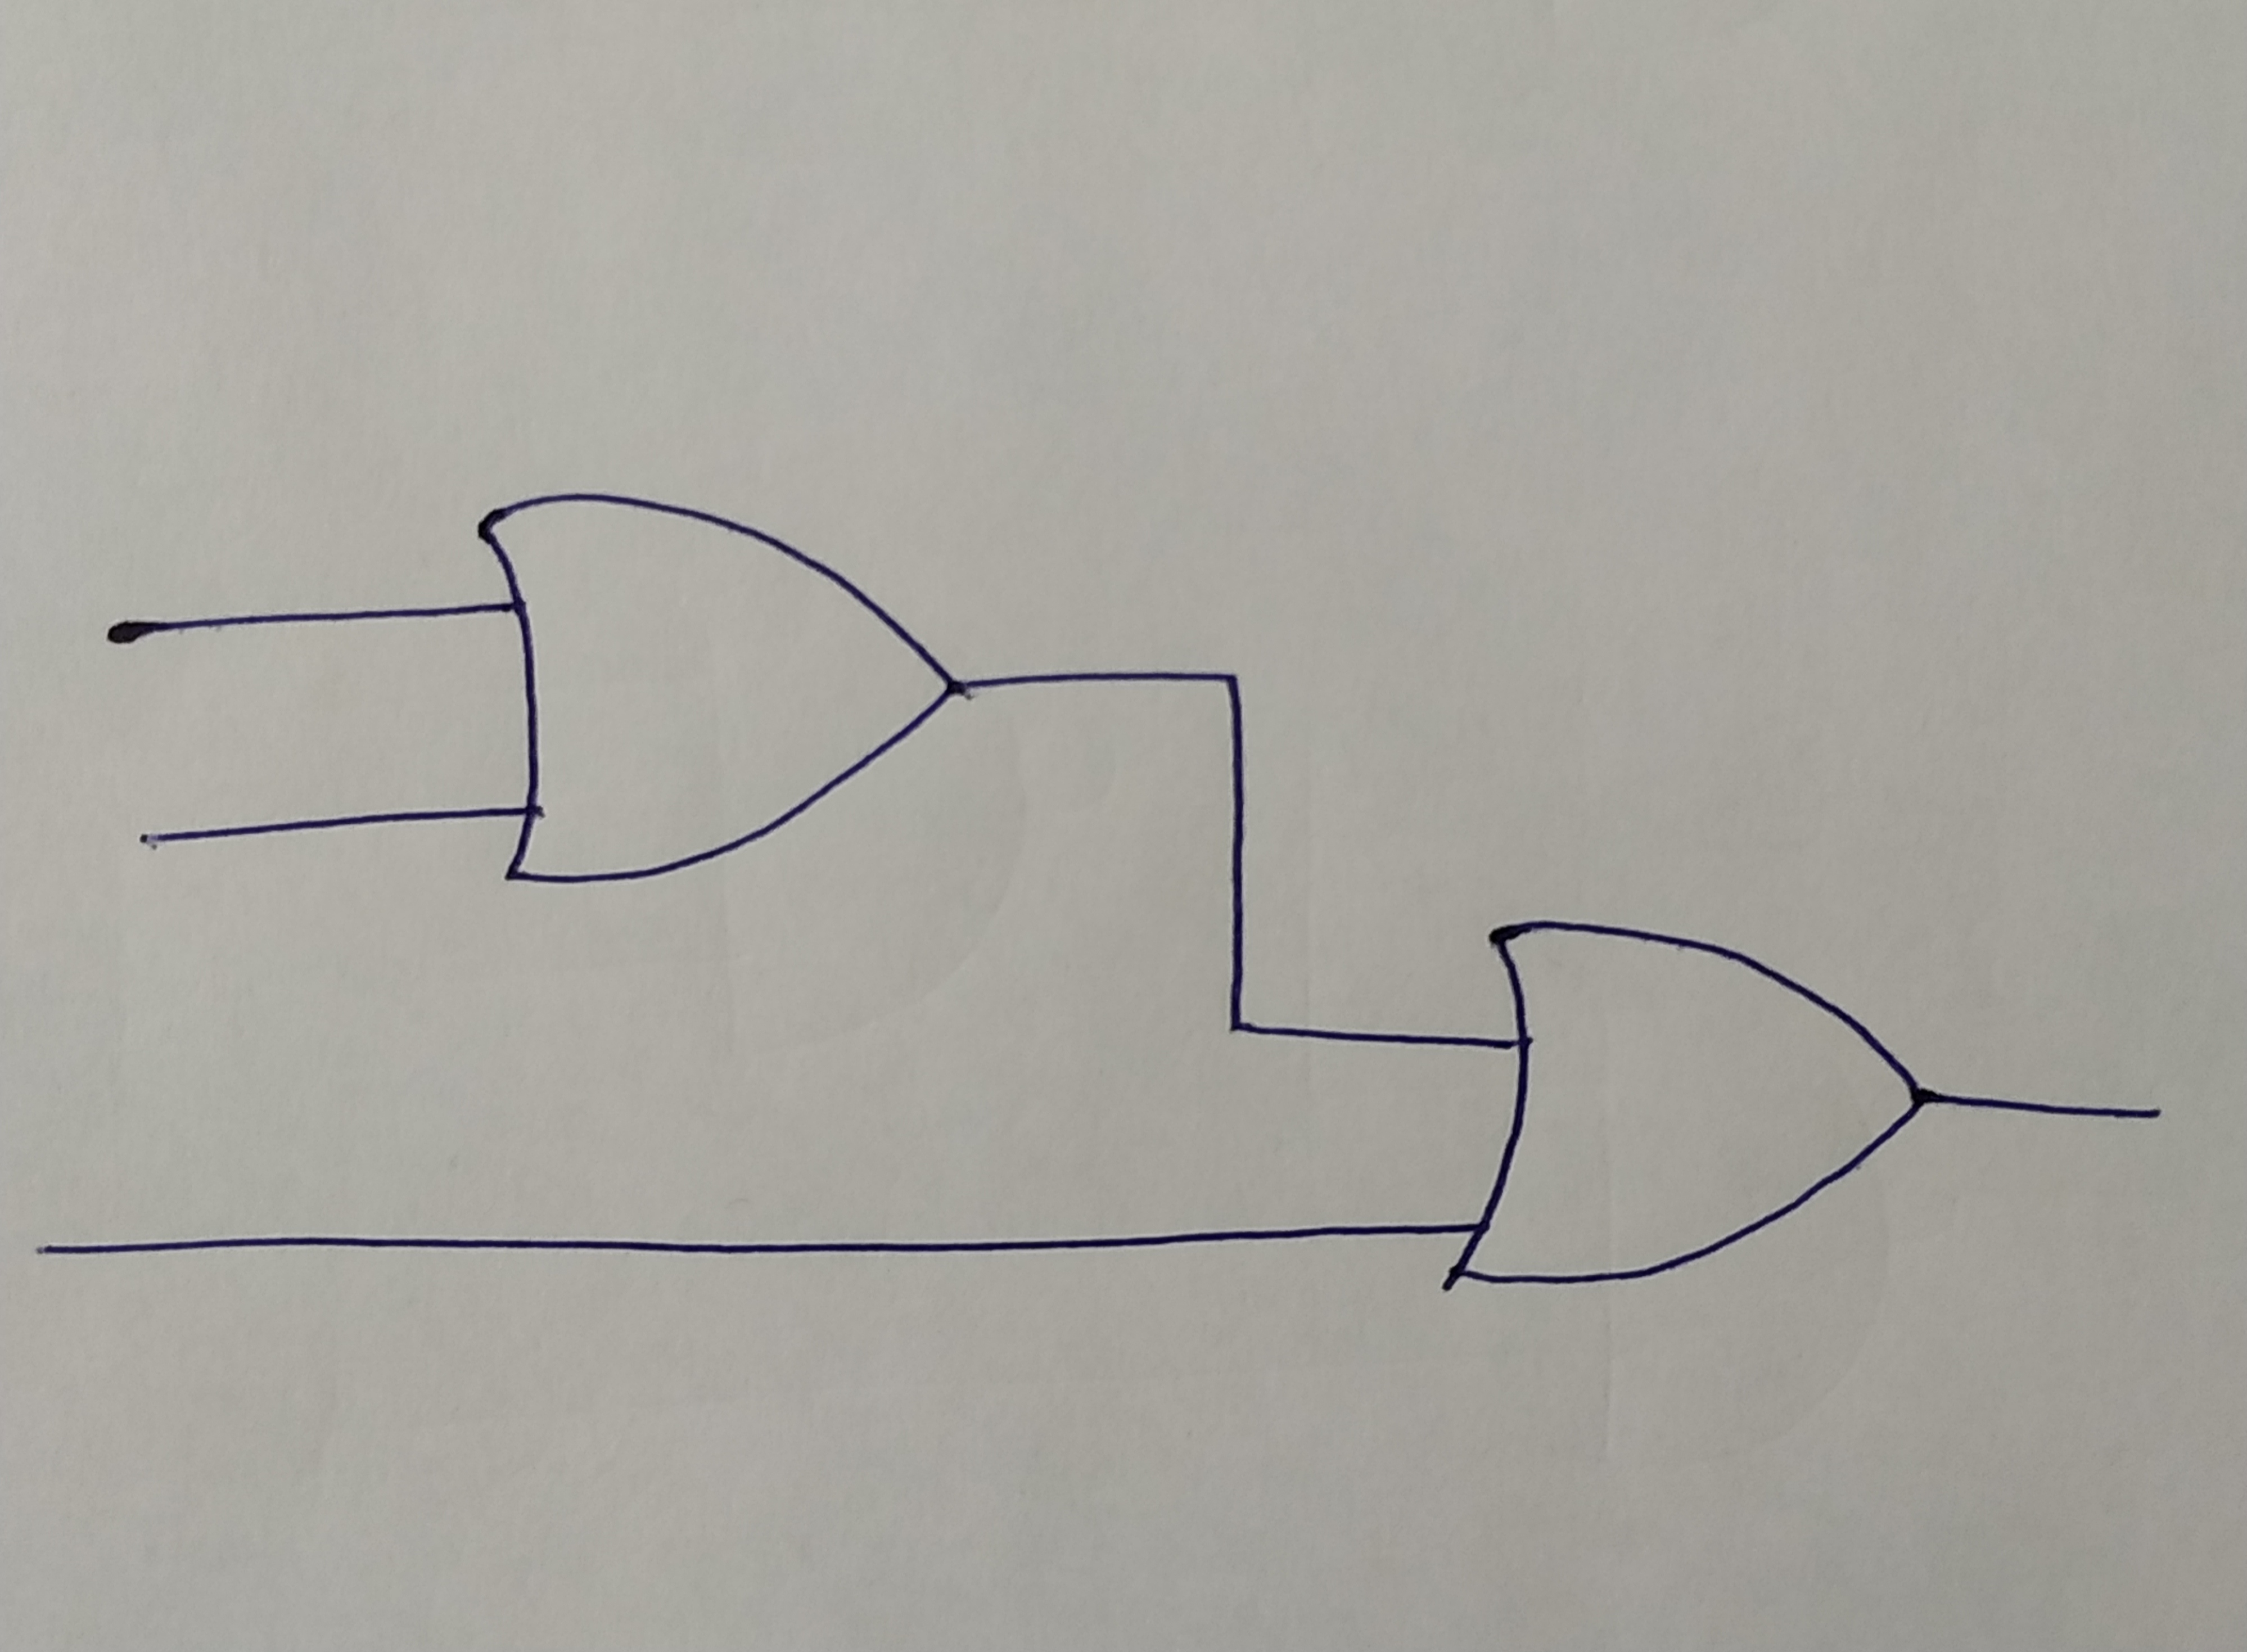or: (473, 501, 960, 883), (1458, 923, 1923, 1291)
